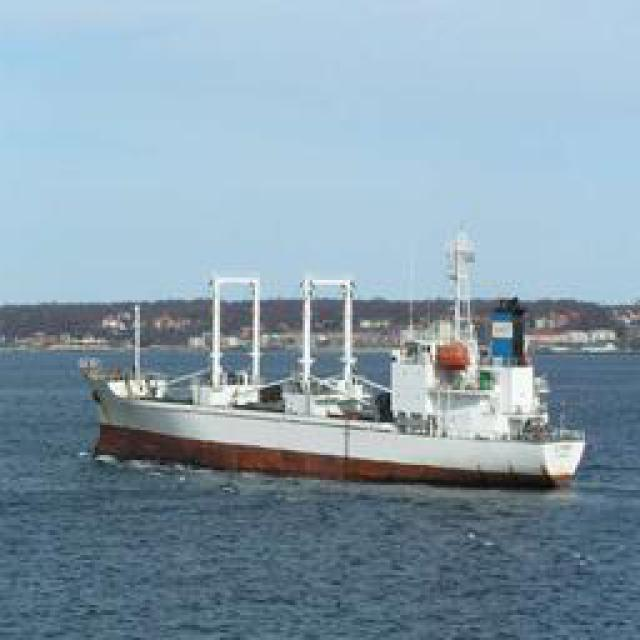Ship: (86, 328, 606, 496)
